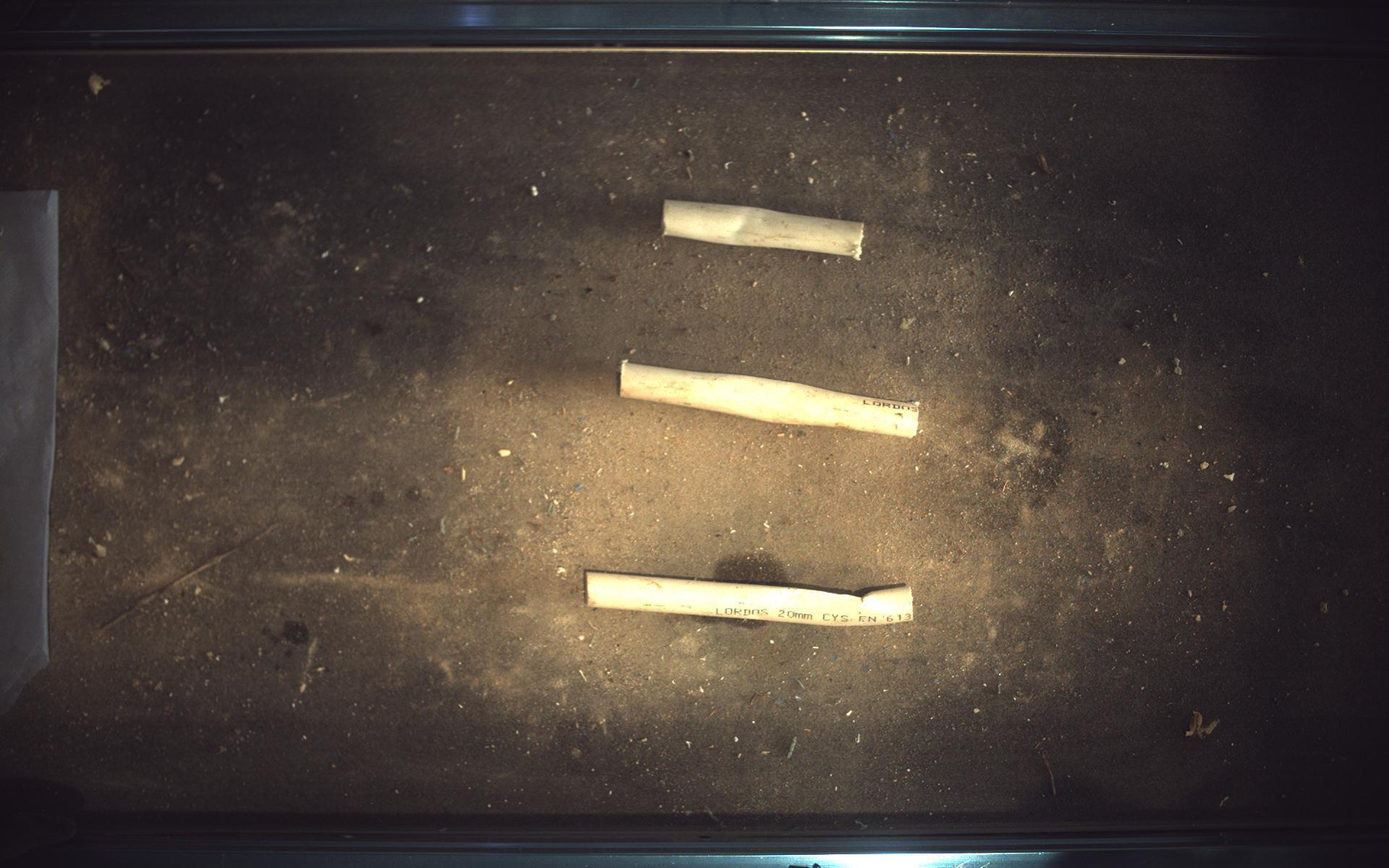pipes: (620, 359, 921, 438), (586, 571, 915, 627), (664, 200, 865, 258)
